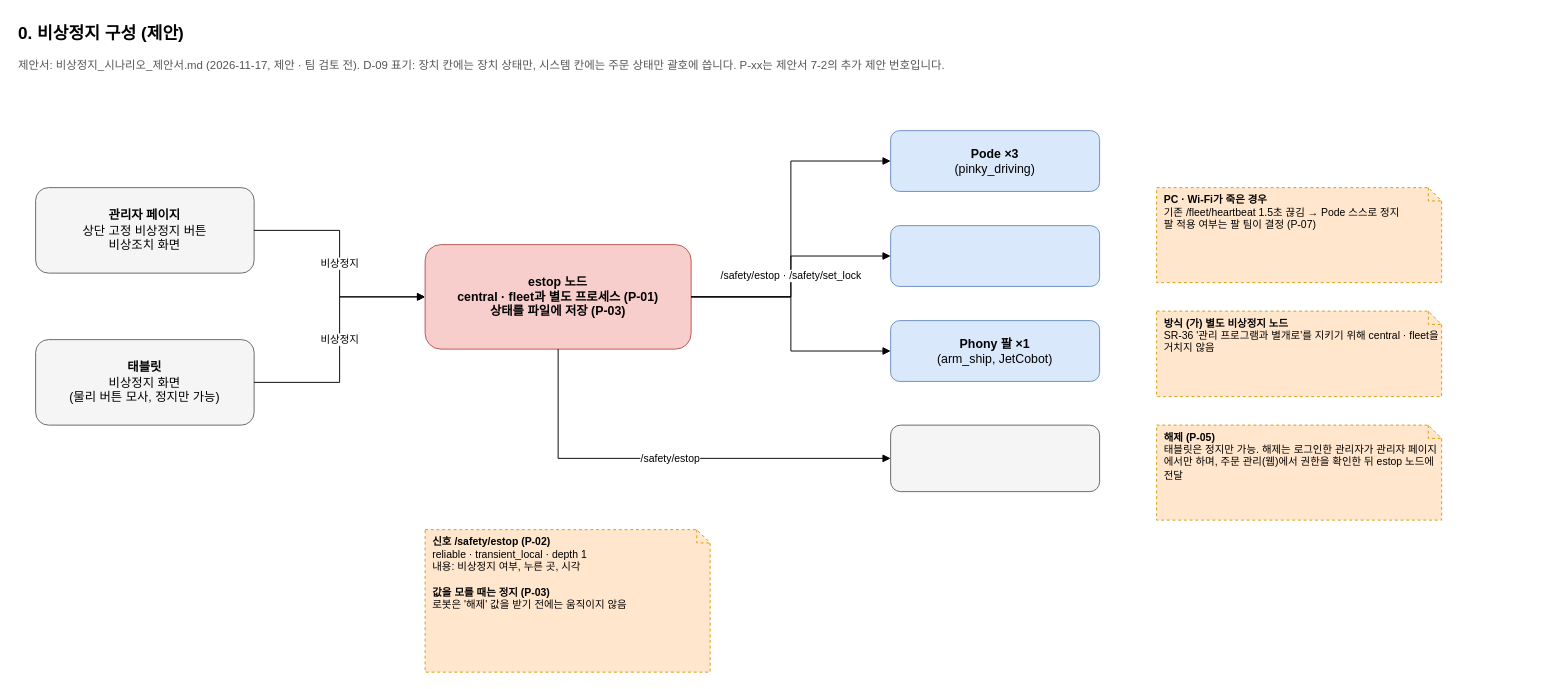
This 1552x689 diagram has some shape labels left out. Here are the shapes that lost their labels. From the top down, the centre of each, then its label:
the point at 995,255: Phody 팔 ×2 (arm_planner_chief, JetCobot)
the point at 995,458: central · fleet 주문 관리(웹 · DB)
